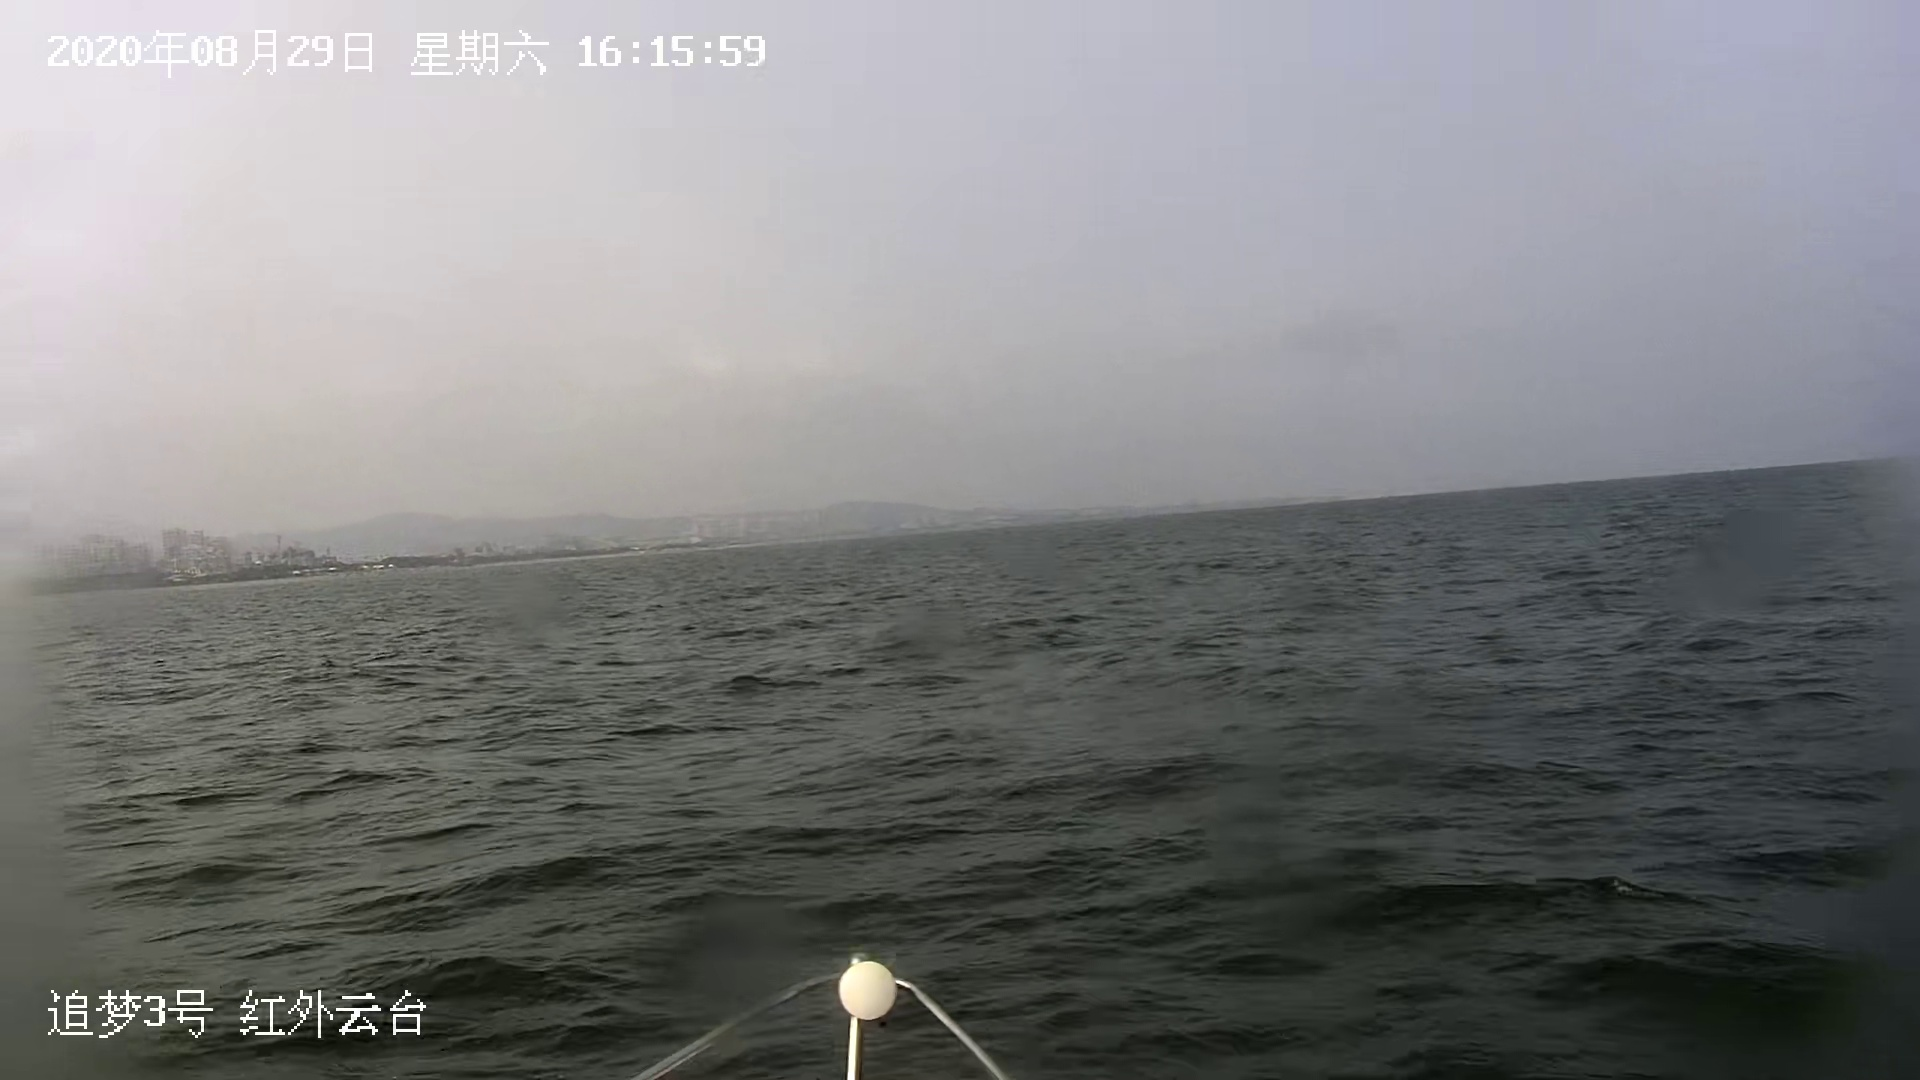coast: (25, 502, 1313, 605)
